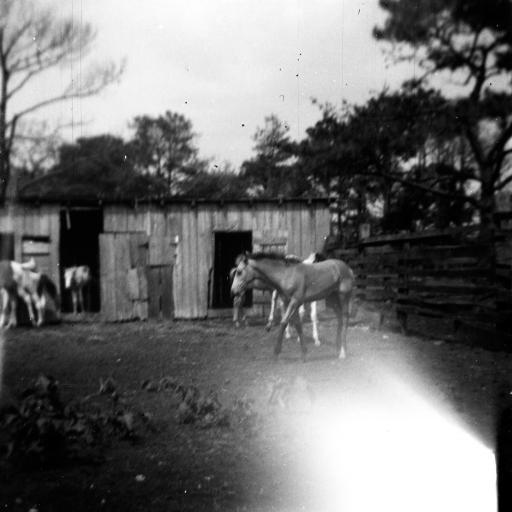Horse: (232, 248, 355, 360)
